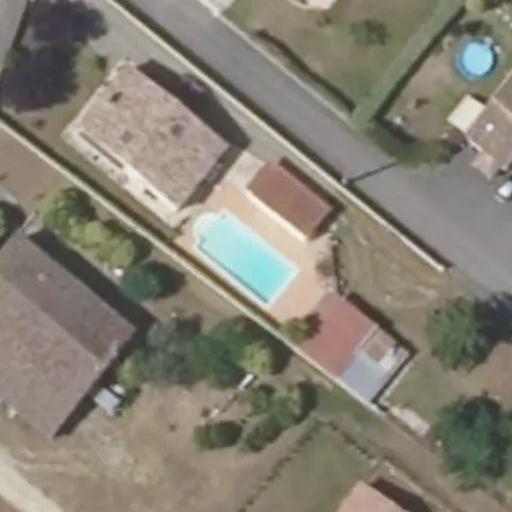pool: (197, 220, 305, 254)
